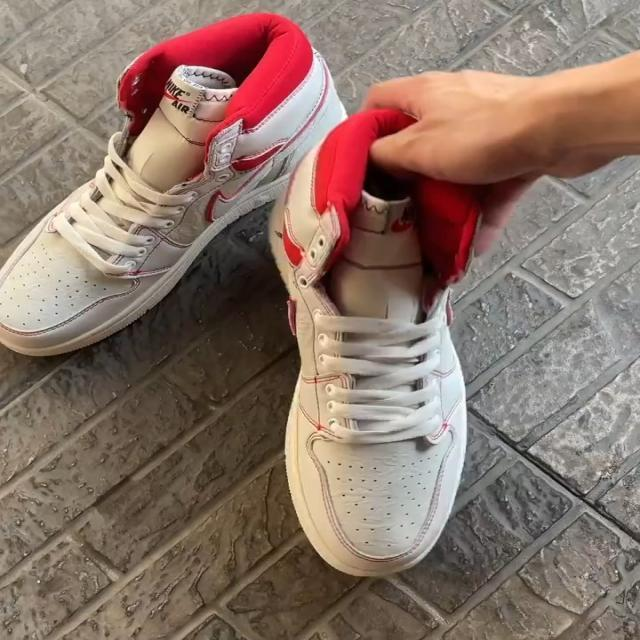nike fake jordan 1: (0, 9, 348, 354), (273, 57, 478, 576)
